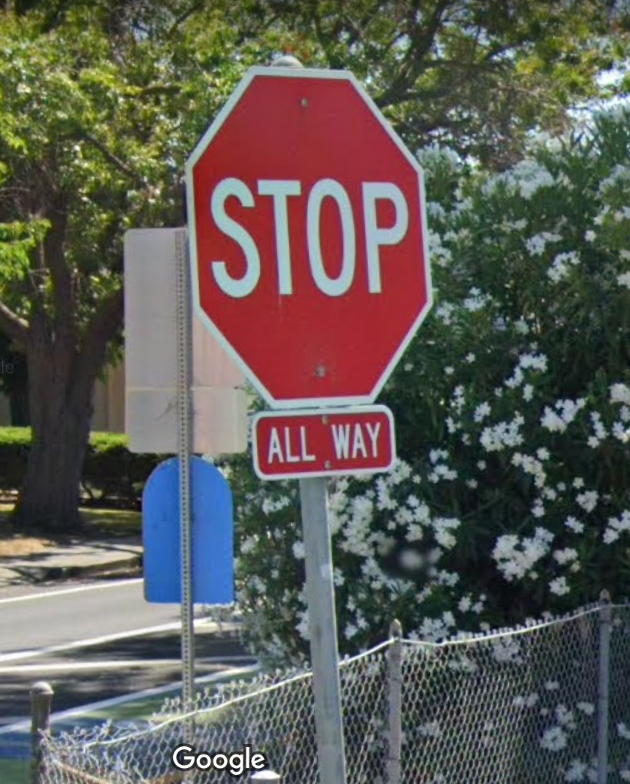stop_sign: (184, 70, 434, 406)
